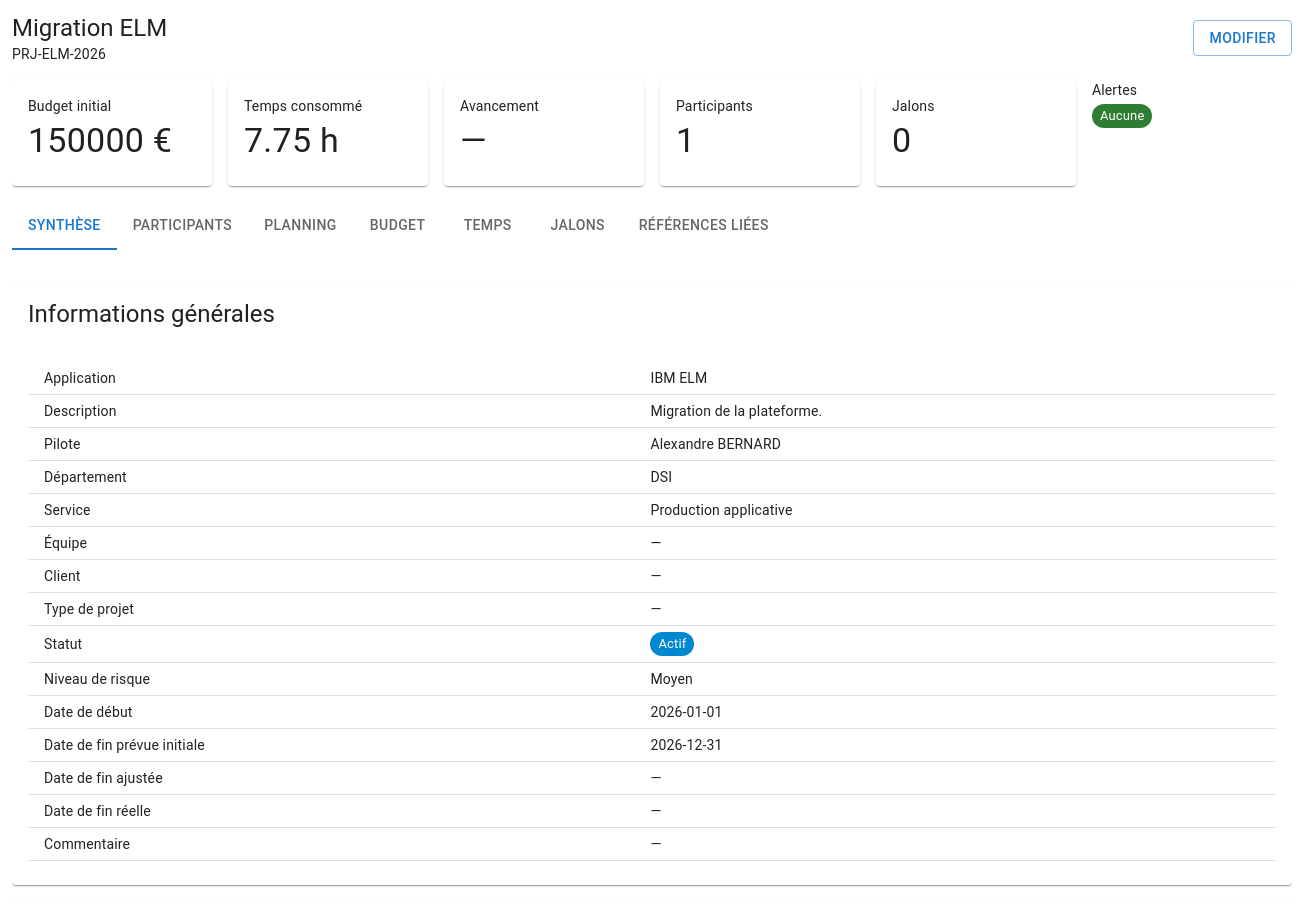
Scenario: ProjectDetailPage › navigates to the Participants tab and lists consumed time per participant
The image size is (1304, 912).
Expected: the heading "Migration ELM" is shown, 12,12 -> 167,44
Step 1. Click the tab "Participants" → coordinates (182, 226), box 117,202 -> 248,250
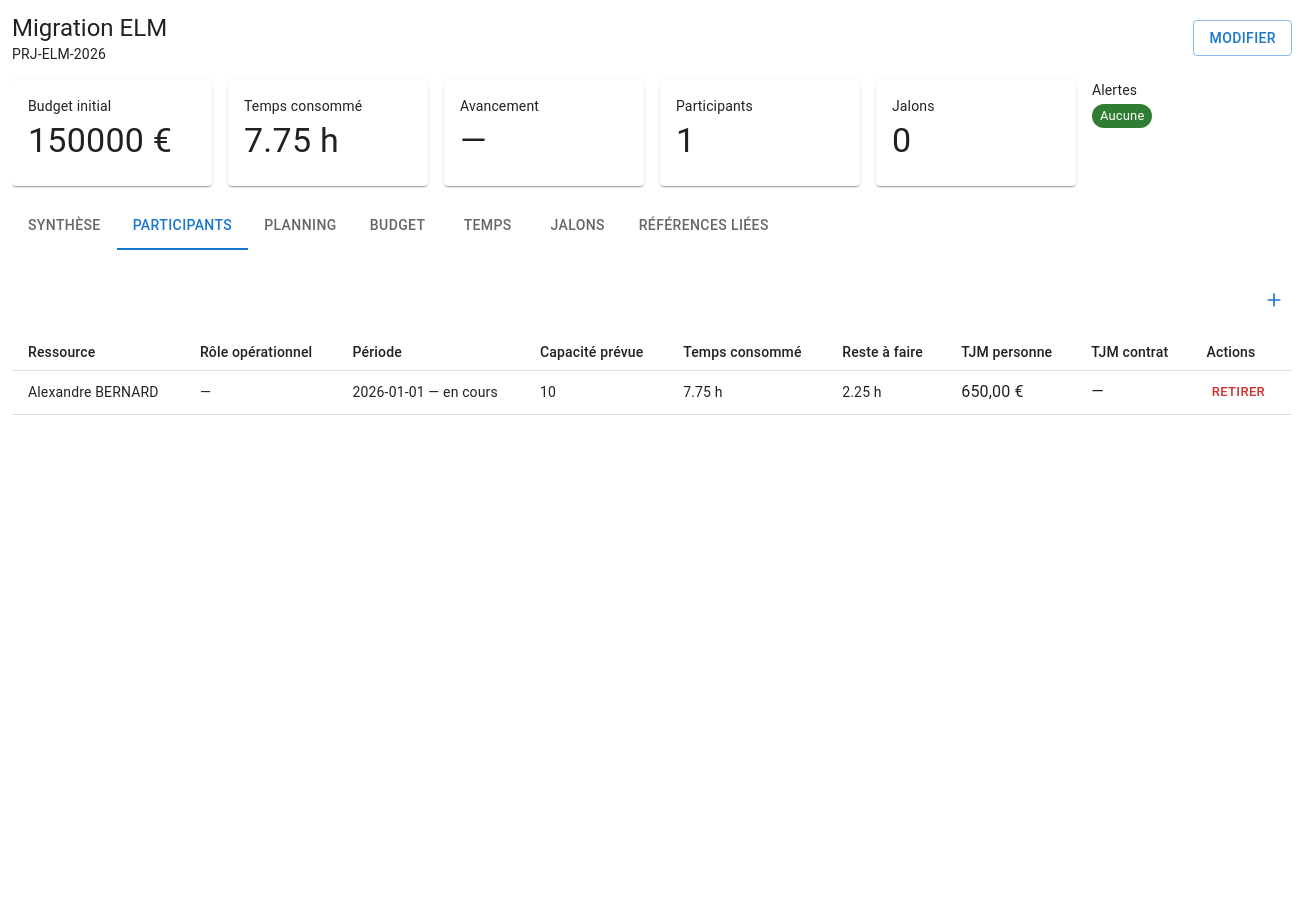
Expected: the text "Alexandre BERNARD" is shown, 12,370 -> 184,414
Expected: the text "7.75 h" is shown, 667,370 -> 826,414
